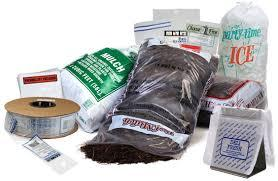Plastic bag: (118, 28, 205, 161), (58, 30, 144, 107), (219, 6, 276, 86)
